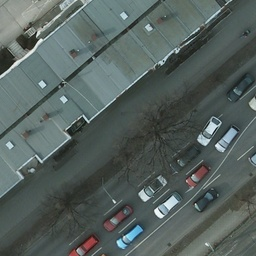car: (154, 193, 186, 221), (171, 146, 202, 173), (136, 176, 165, 203), (115, 223, 144, 250), (197, 116, 222, 147), (227, 72, 252, 103), (103, 205, 131, 231), (184, 163, 210, 188), (215, 126, 238, 153), (193, 191, 219, 214), (0, 0, 4, 2)
